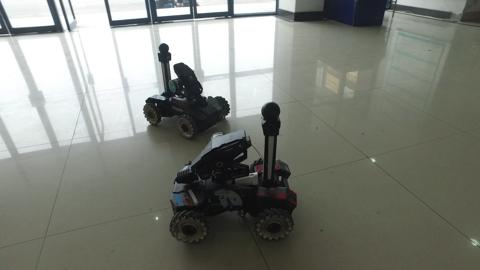chariot: (164, 97, 307, 246), (142, 43, 232, 145)
